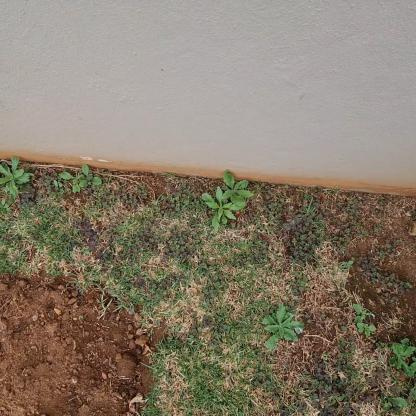Weeds: (201, 186, 244, 235), (262, 304, 305, 351), (1, 155, 35, 197), (222, 168, 253, 213), (389, 338, 415, 381), (59, 167, 87, 195), (380, 391, 405, 413), (80, 163, 101, 189), (352, 300, 370, 325), (358, 321, 376, 337), (341, 258, 356, 272)
